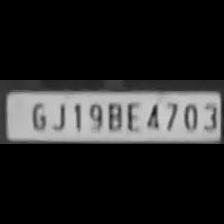0: (178, 100, 200, 132)
1: (69, 100, 85, 132)
3: (199, 100, 219, 132)
4: (142, 100, 162, 132)
7: (160, 99, 178, 131)
9: (86, 100, 104, 132)
B: (104, 100, 124, 132)
E: (122, 100, 142, 132)
G: (26, 100, 48, 132)
J: (50, 100, 68, 132)
